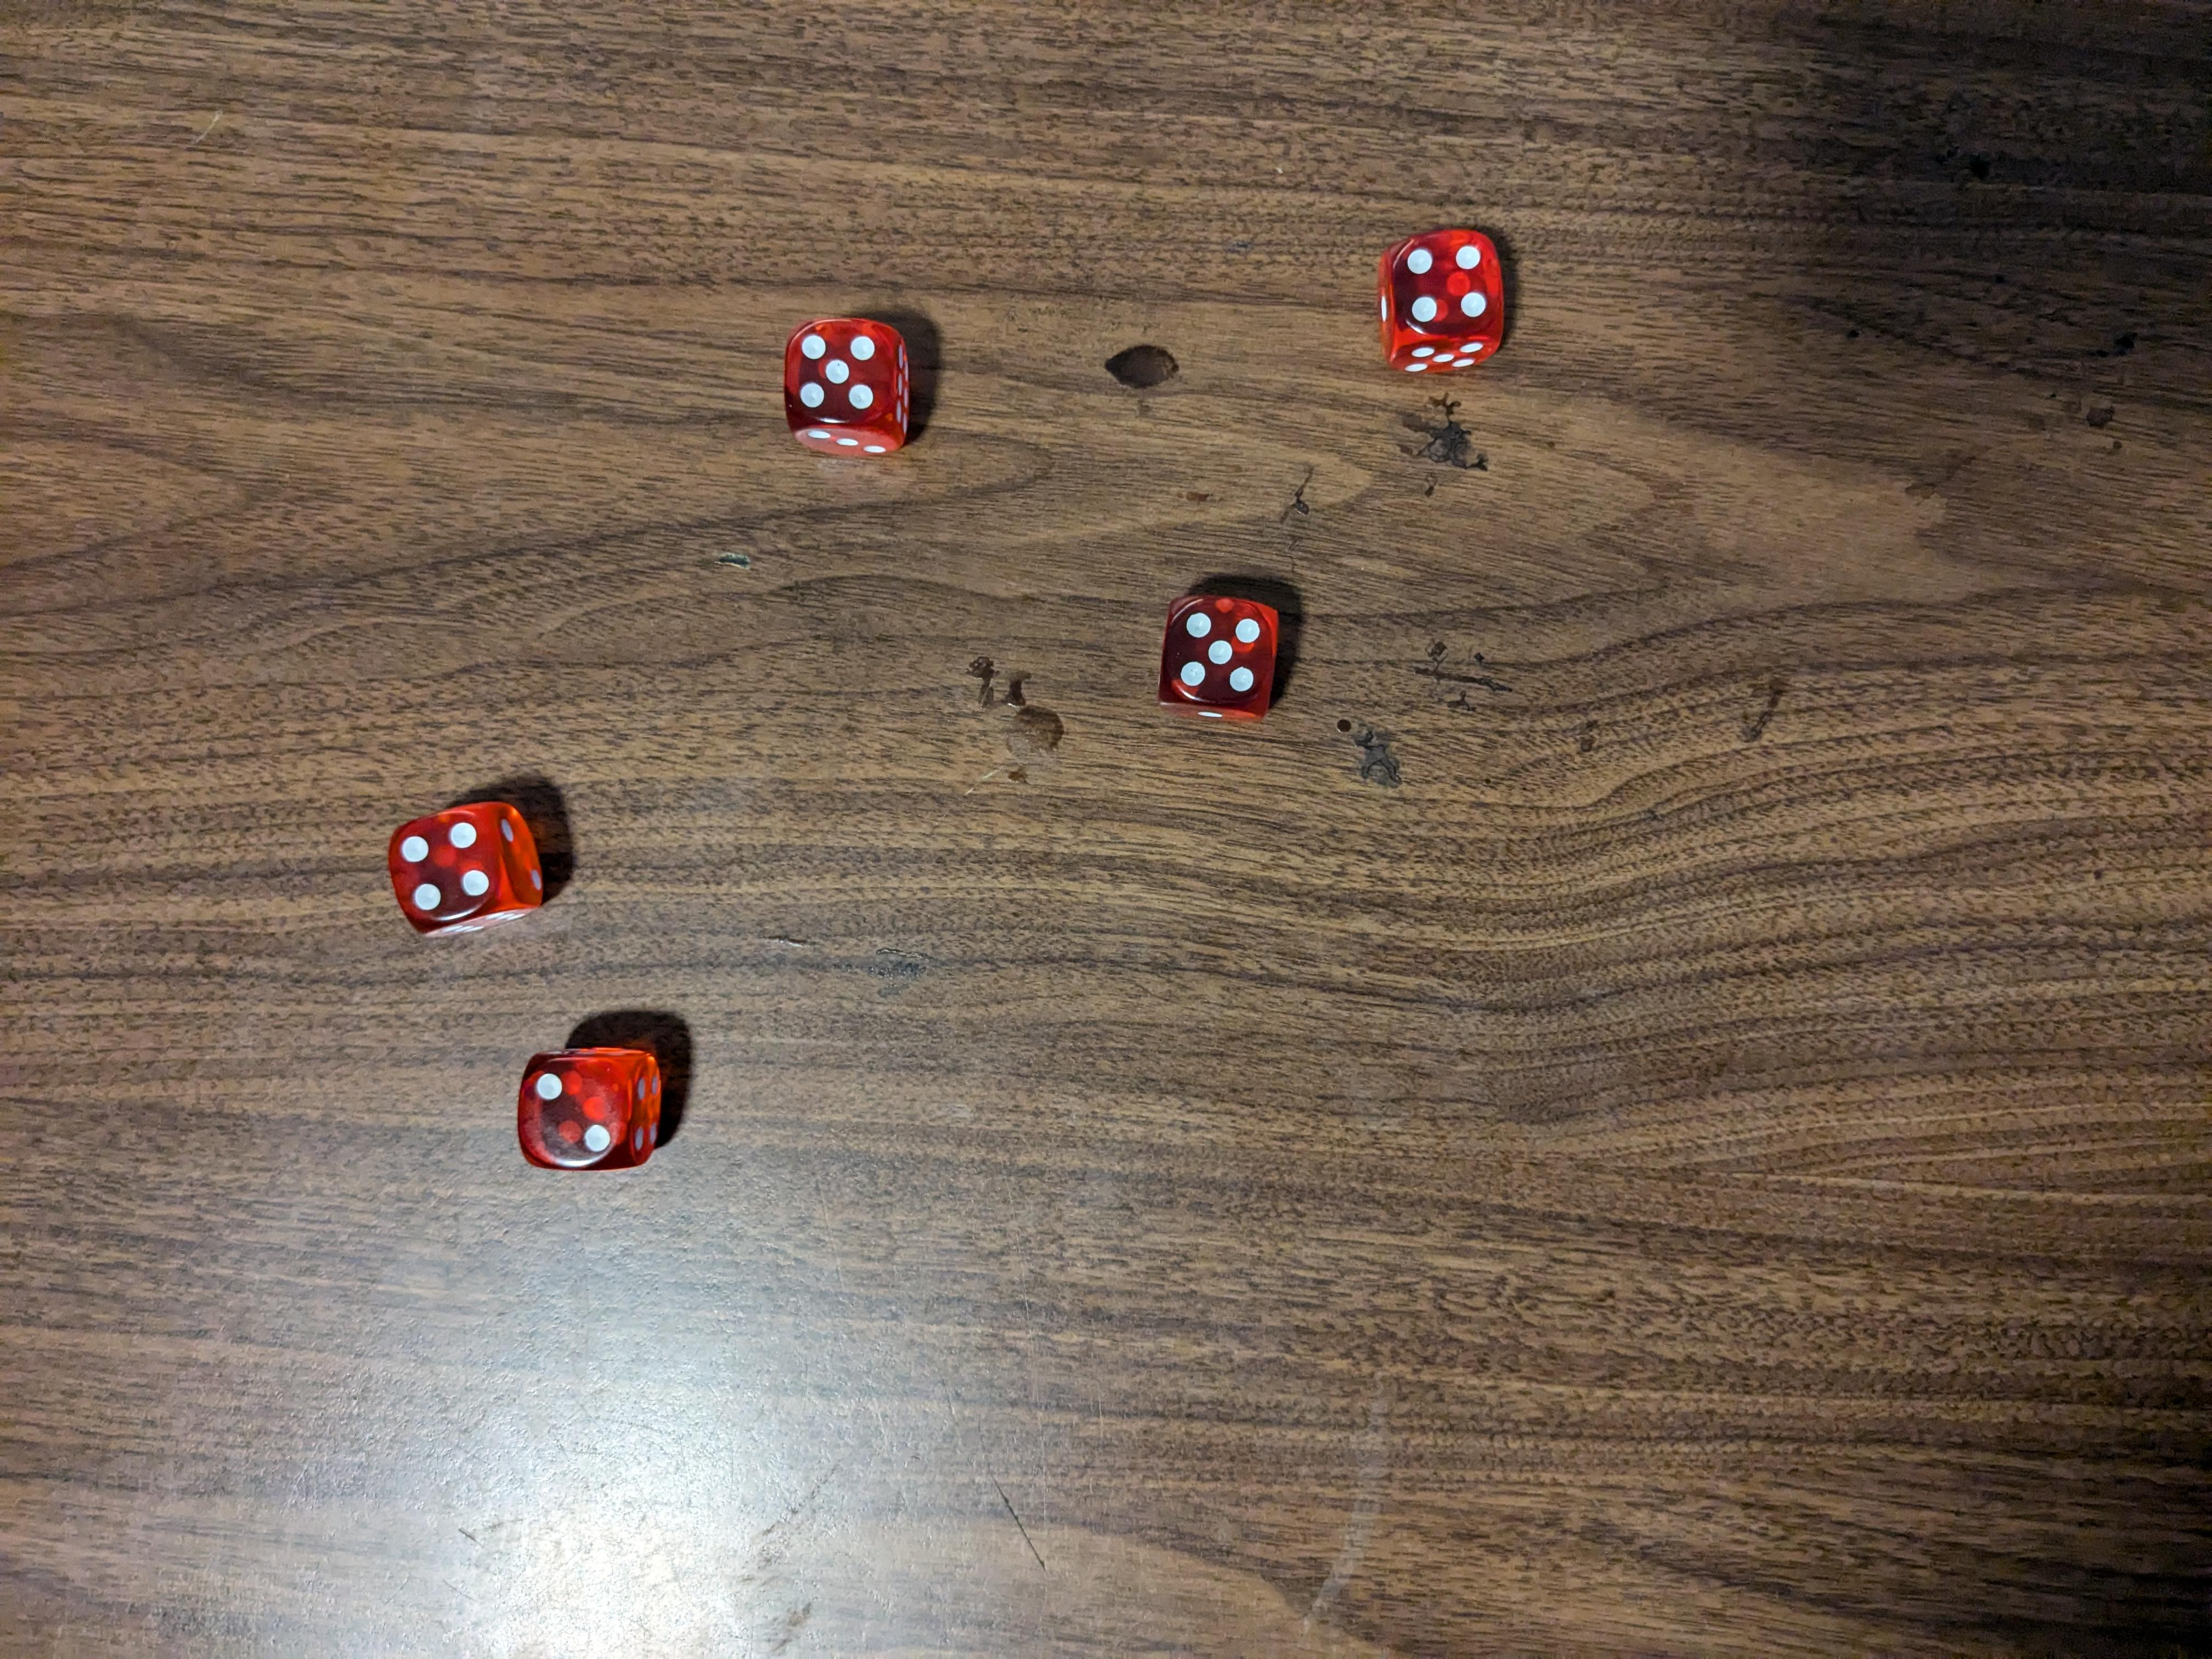five: (786, 315, 918, 457), (1158, 586, 1285, 725)
four: (388, 800, 554, 939), (1372, 228, 1507, 382)
two: (521, 1044, 667, 1173)
